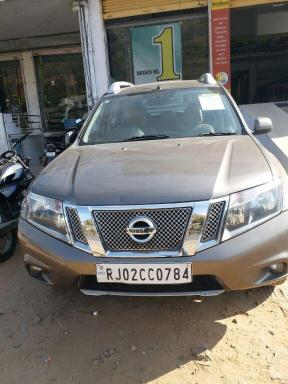number_plate: (95, 262, 196, 286)
